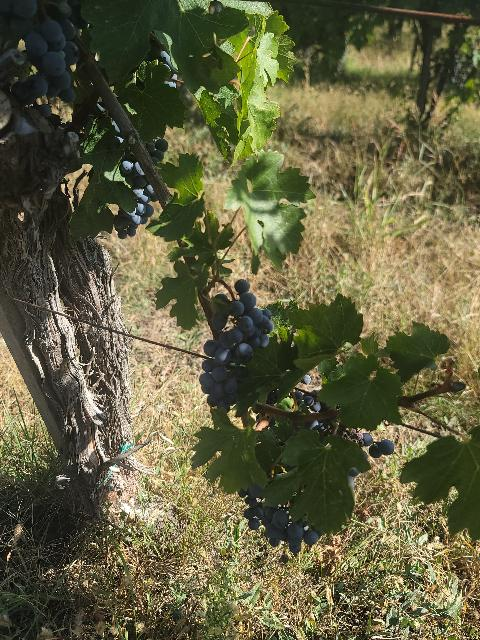grapes: (199, 279, 274, 411), (114, 154, 158, 239)
